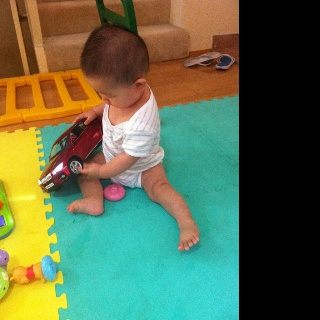without_mask: (78, 23, 149, 108)
